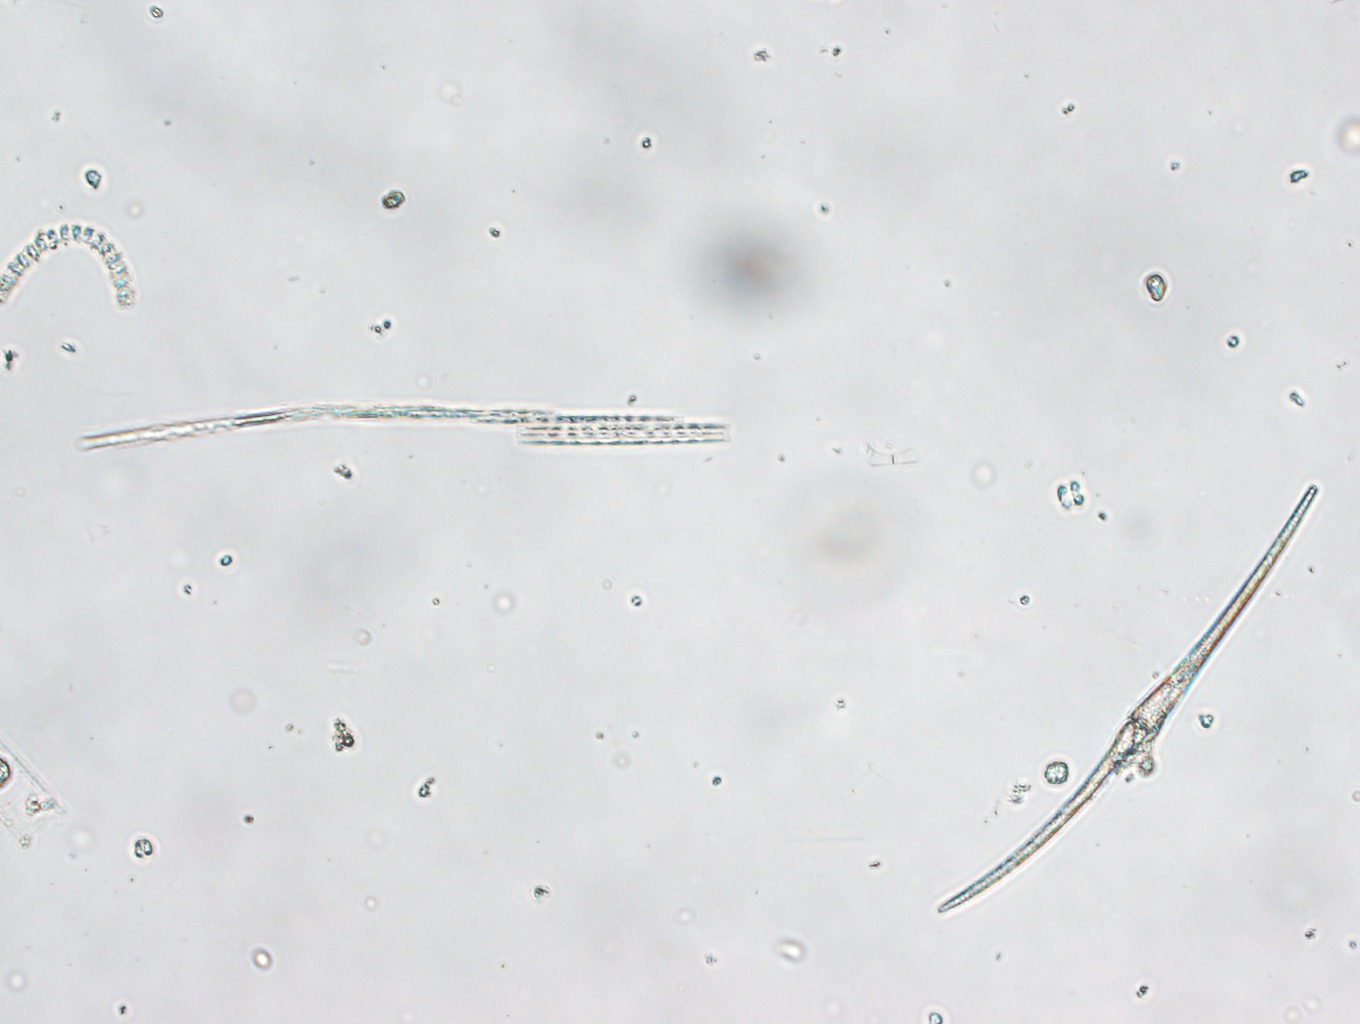ceratium fusus: (934, 477, 1315, 918)
